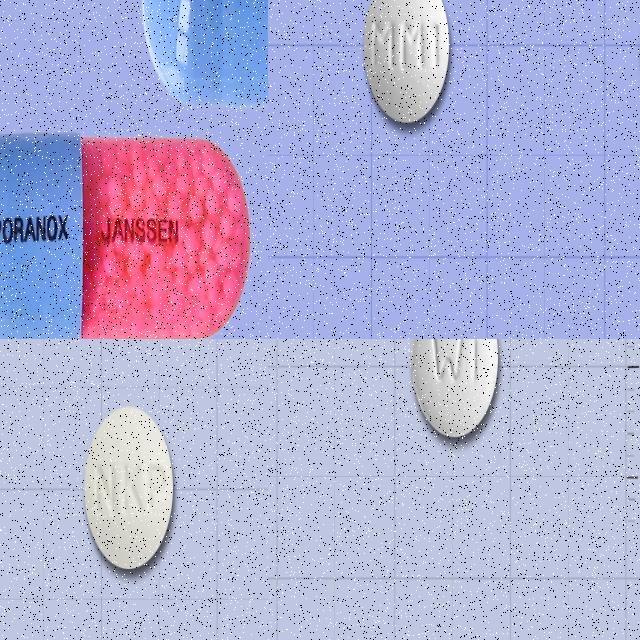Leflunomide - 20mg: (363, 0, 451, 123)
Lefoxacin: (84, 406, 174, 571)
Suprax Cap- Dong-A: (0, 133, 253, 339)
Withus Levofloxacin Tab: (410, 339, 501, 439)
